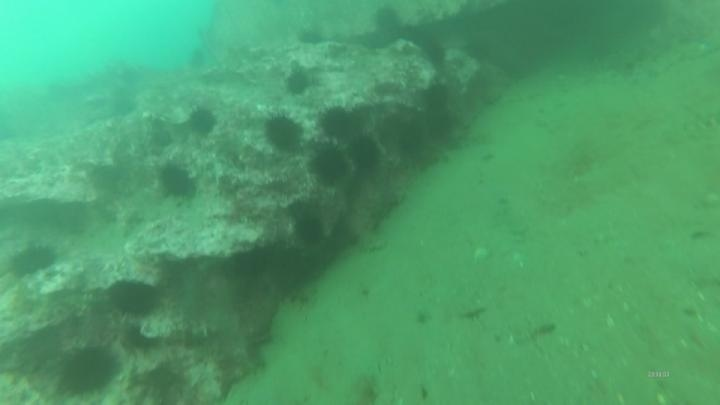echinus: (54, 340, 123, 401), (260, 239, 319, 296), (107, 277, 163, 320), (6, 241, 59, 281), (261, 111, 305, 154), (155, 160, 198, 202), (311, 146, 351, 187), (316, 103, 358, 142), (347, 133, 383, 173), (292, 212, 327, 248), (186, 105, 219, 138), (283, 67, 313, 98), (399, 119, 426, 150), (295, 25, 327, 49), (426, 118, 454, 143), (372, 8, 395, 29), (425, 42, 445, 65), (428, 88, 447, 110)
